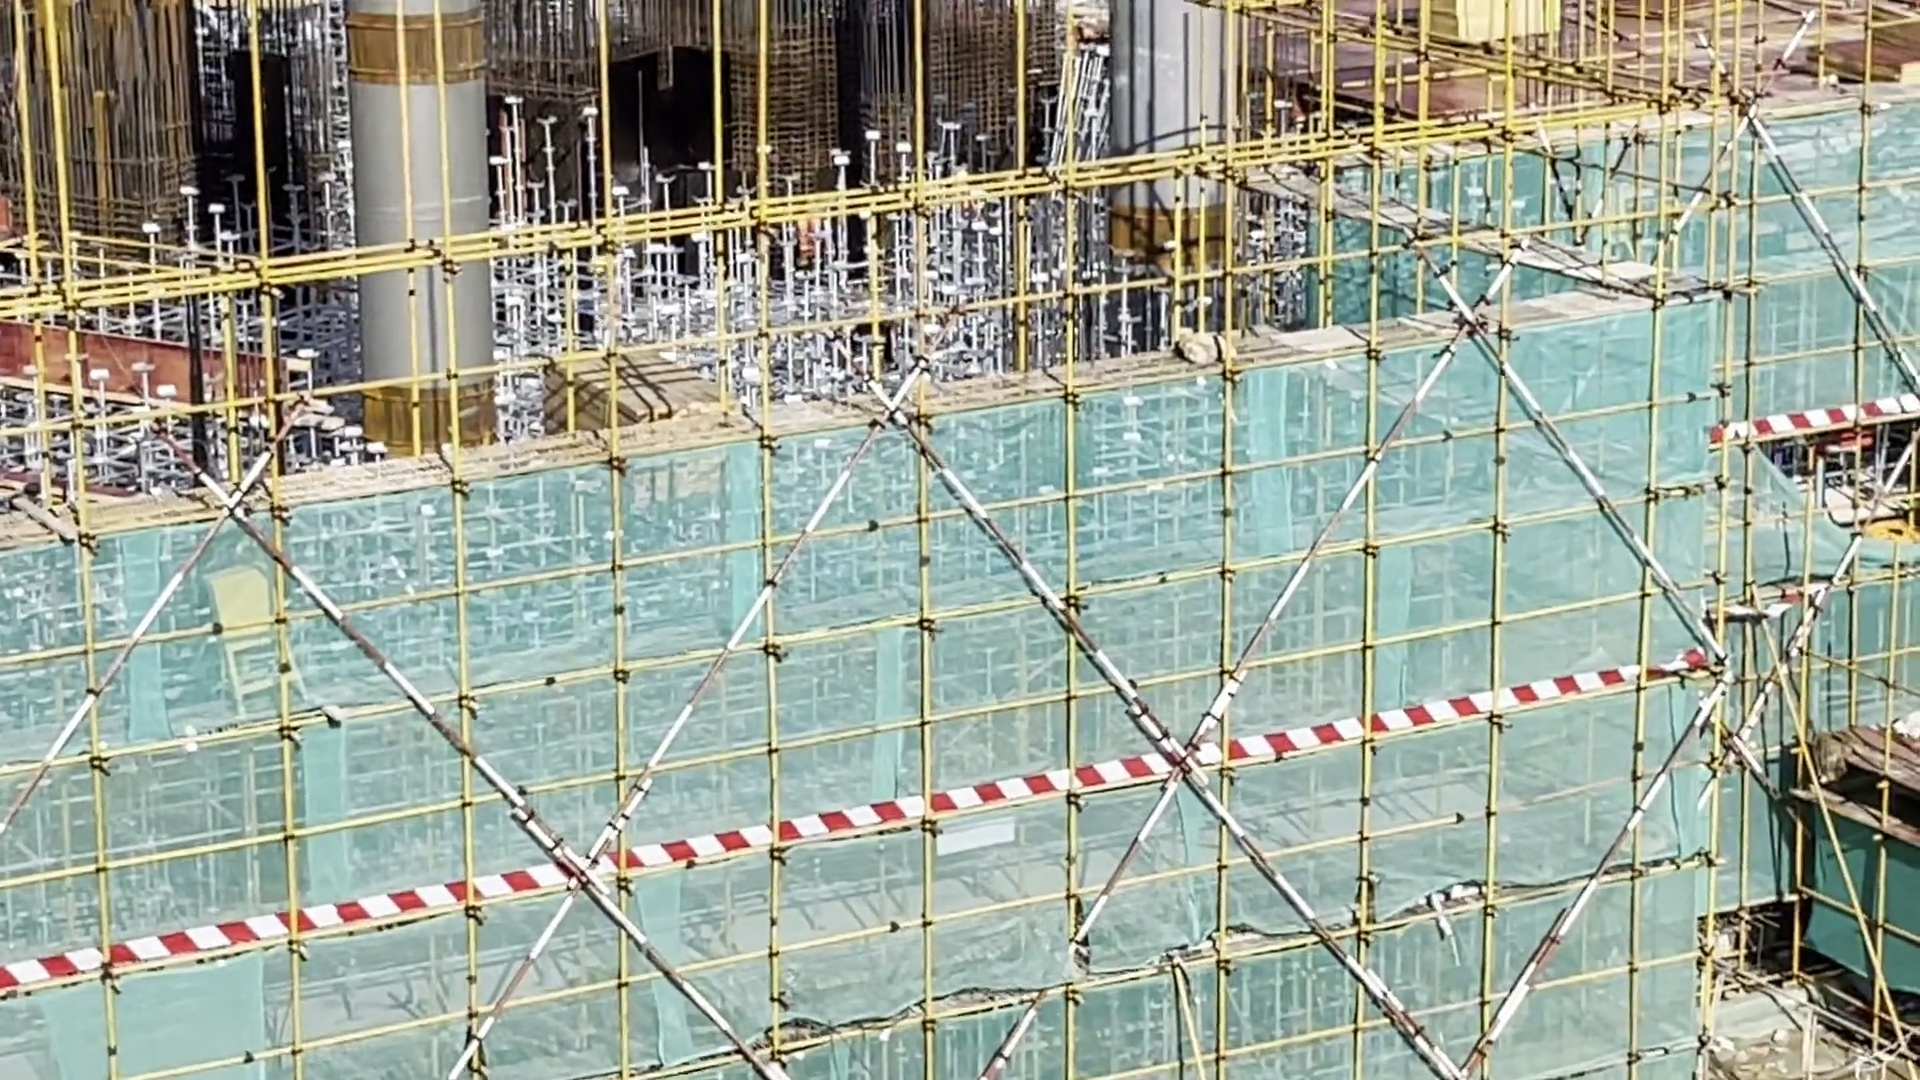ebox: (195, 566, 320, 709)
